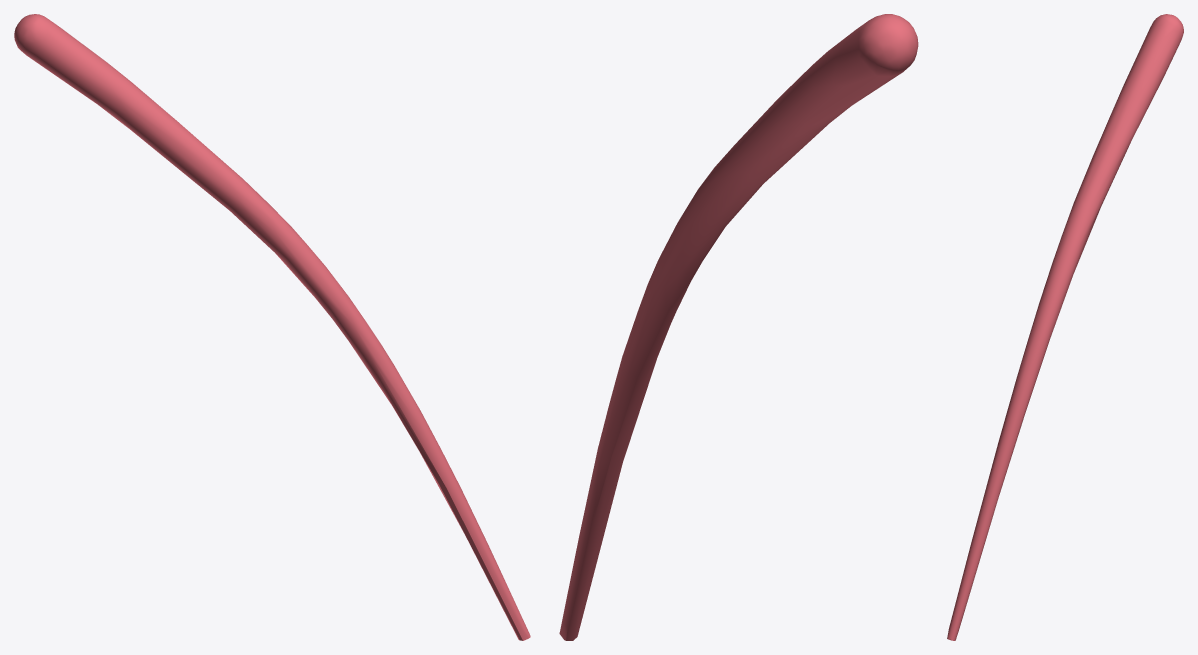
The model's file is fma8678_fj2956.glb.
3 renders of one model, left to right at view 1: azimuth 30°, elevation 25°; view 2: azimuth 150°, elevation 25°; view 3: azimuth 270°, elevation 25°, orthographic. The views are drawn at different scales.
Parts seen in each view (by area): view 1: FMA8678_FJ2956; view 2: FMA8678_FJ2956; view 3: FMA8678_FJ2956.
Boxes of the visible parts, x1,y1,x2,y2 form: FMA8678_FJ2956: (14,14,530,640); FMA8678_FJ2956: (559,14,918,640); FMA8678_FJ2956: (947,14,1183,640).
Bounding box in the file's own units: 0.0516 × 0.0799 × 0.0352.
